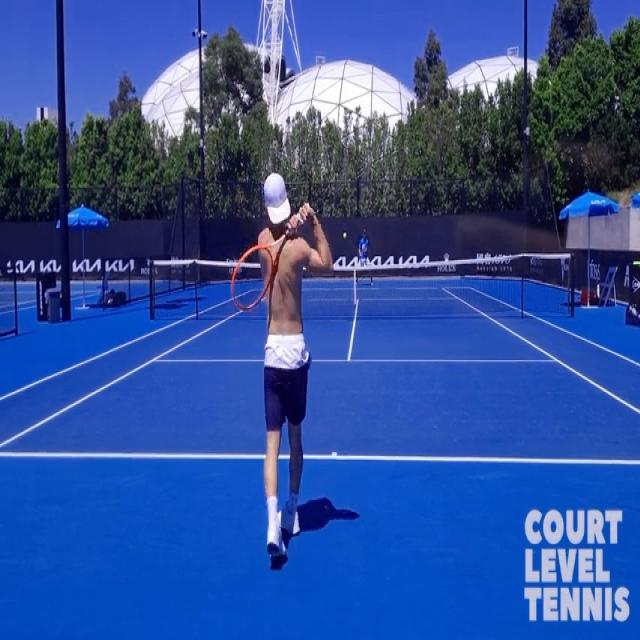backhand-finish: (228, 142, 337, 572)
